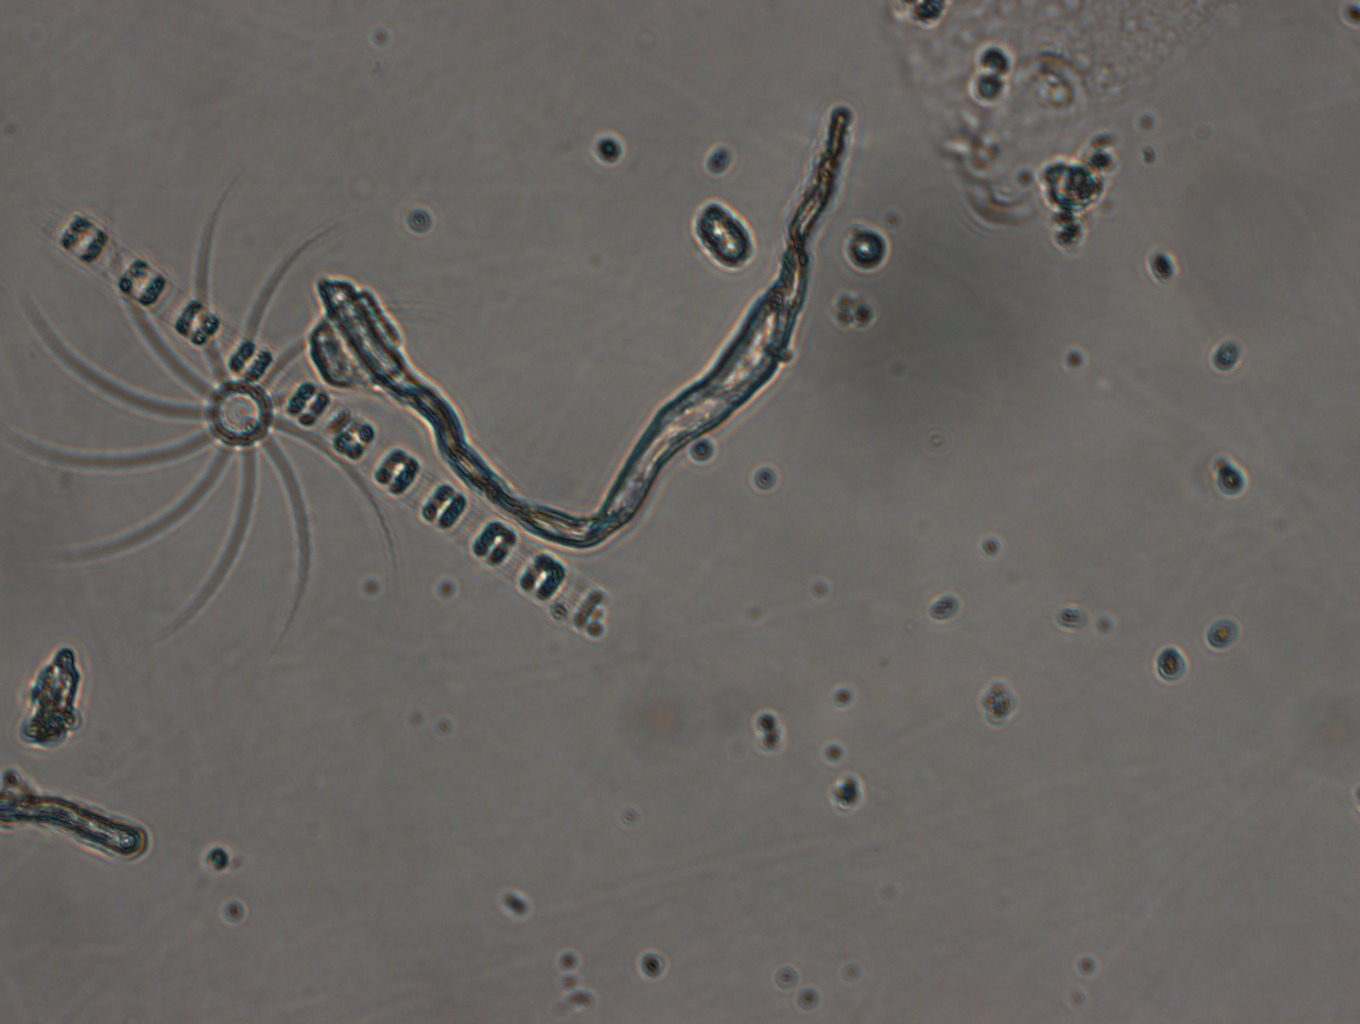bacteriastrum: (15, 226, 439, 635)
skeletonema: (51, 212, 609, 634)
